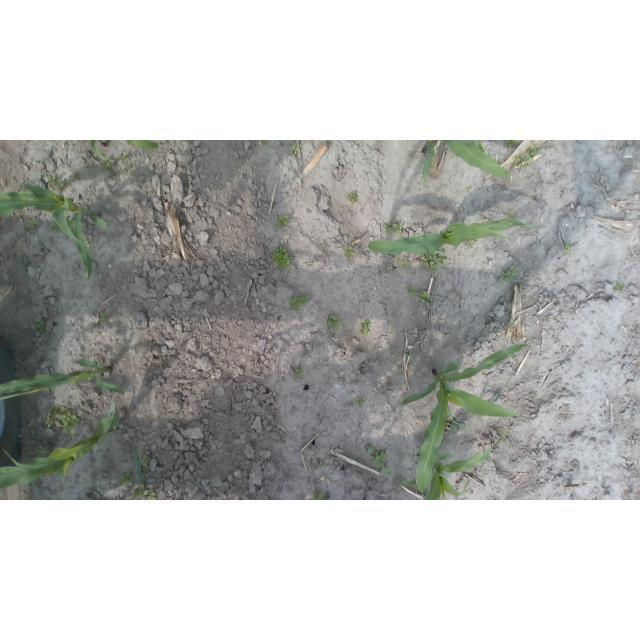Maize: (401, 341, 529, 496), (0, 180, 108, 287), (1, 401, 124, 491), (401, 421, 512, 499), (367, 218, 527, 255), (1, 358, 128, 400), (420, 142, 512, 183), (90, 140, 161, 160)
Weeds: (44, 406, 81, 435), (366, 442, 392, 478), (508, 141, 540, 168), (104, 155, 132, 176), (422, 250, 446, 270), (272, 247, 290, 267), (408, 287, 433, 301), (32, 315, 47, 338), (289, 292, 307, 310), (385, 220, 404, 236), (137, 489, 160, 500), (327, 315, 343, 329), (26, 217, 38, 234), (504, 268, 520, 280), (349, 192, 360, 203), (362, 321, 371, 334), (142, 457, 152, 468), (280, 218, 289, 229), (311, 493, 325, 500), (291, 144, 300, 153), (296, 367, 304, 377), (346, 247, 353, 258), (99, 312, 106, 323), (354, 399, 363, 407), (619, 282, 627, 290), (565, 243, 571, 250)
